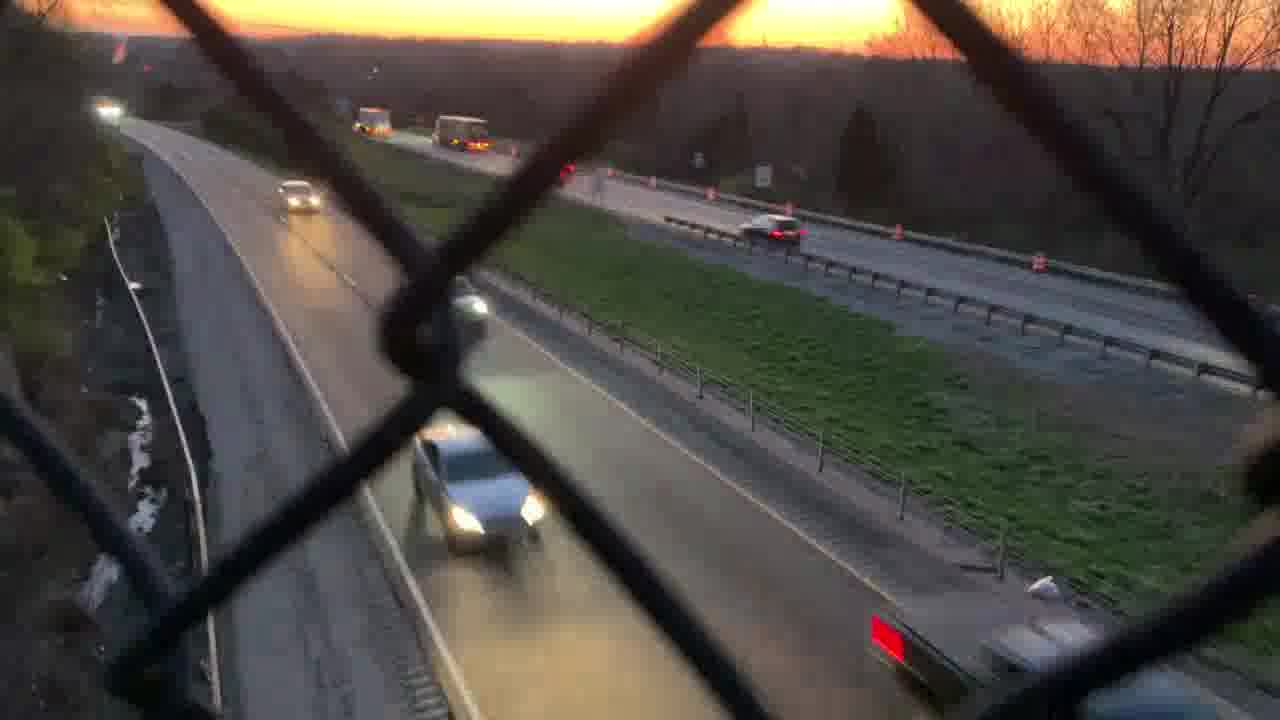heavyTruck: (426, 112, 497, 157), (352, 107, 397, 138)
largeCar: (731, 215, 806, 243)
smallCar: (406, 422, 559, 542)
